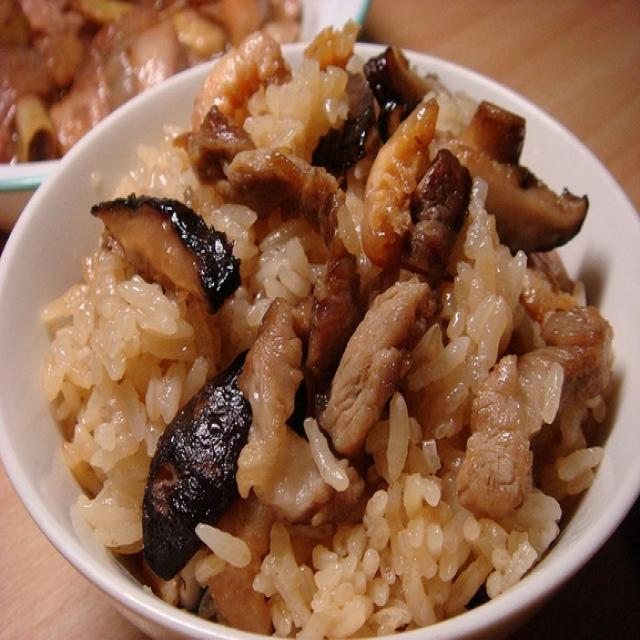米饭主食: (38, 37, 606, 624)
